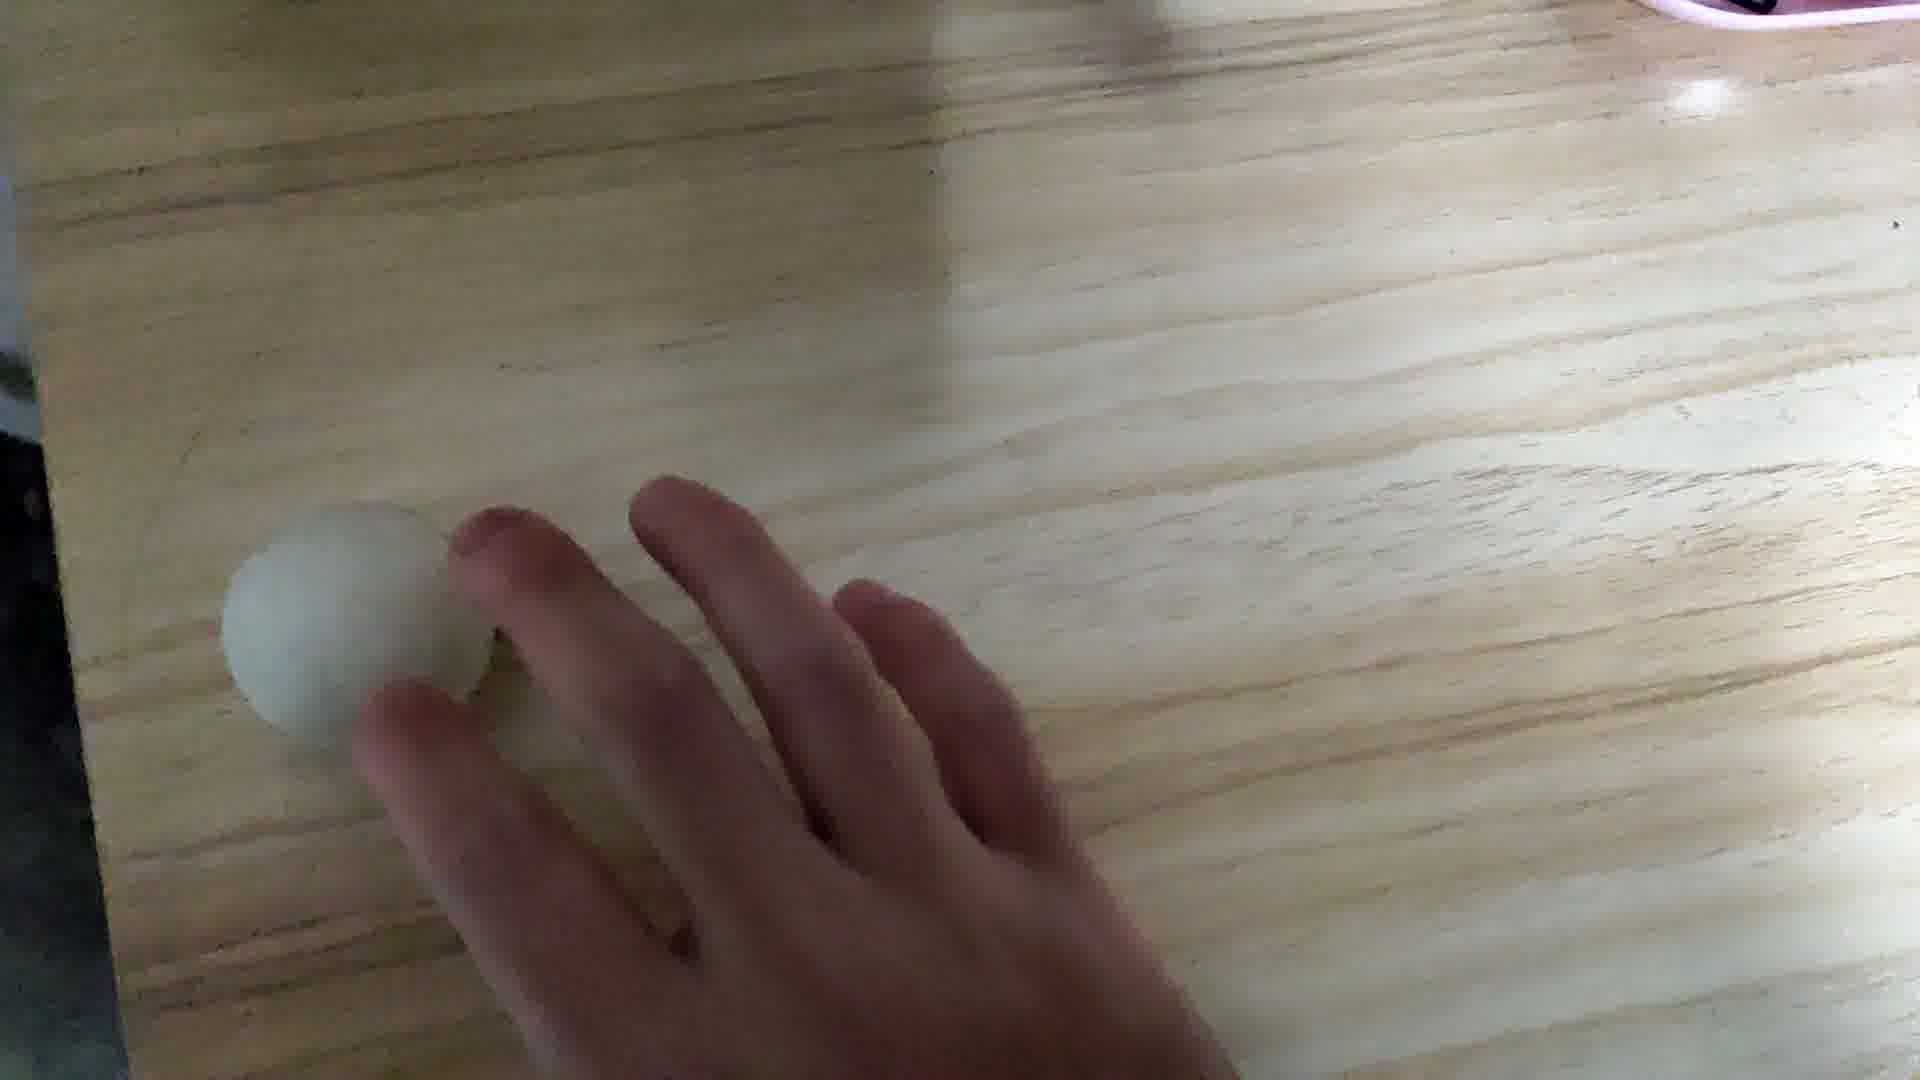Ball: (218, 506, 491, 745)
